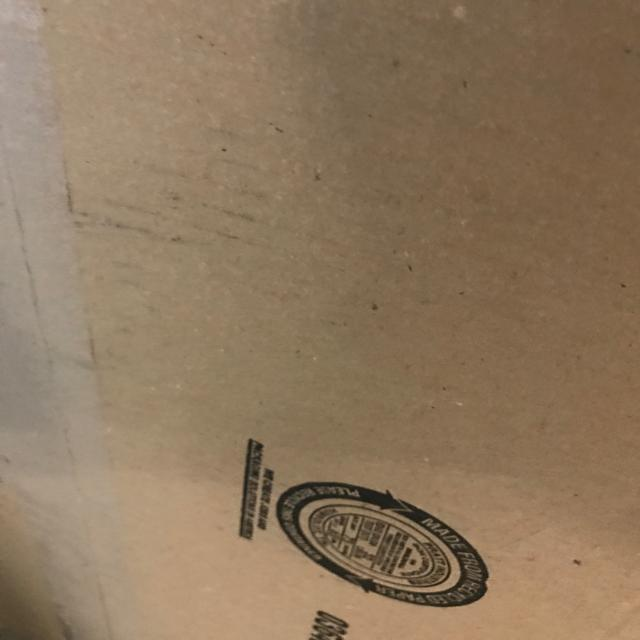cardboard: (8, 0, 639, 639)
